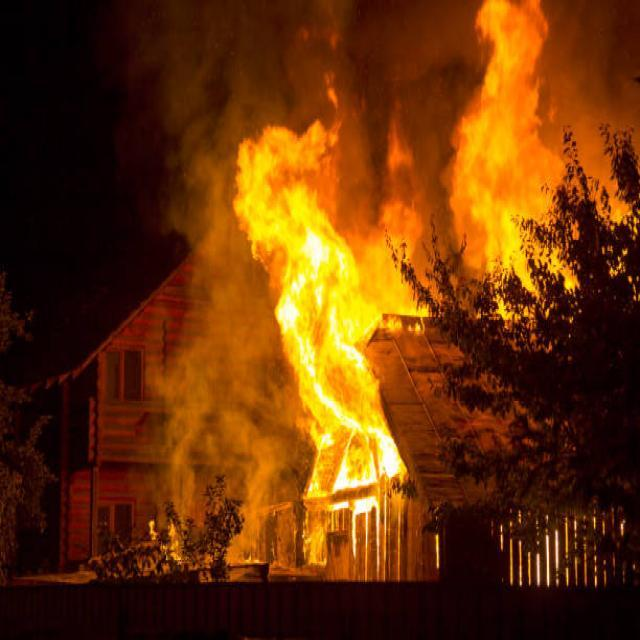Fire: (230, 90, 410, 544), (445, 0, 596, 326)
Smoke: (168, 176, 304, 521), (138, 0, 352, 190)
